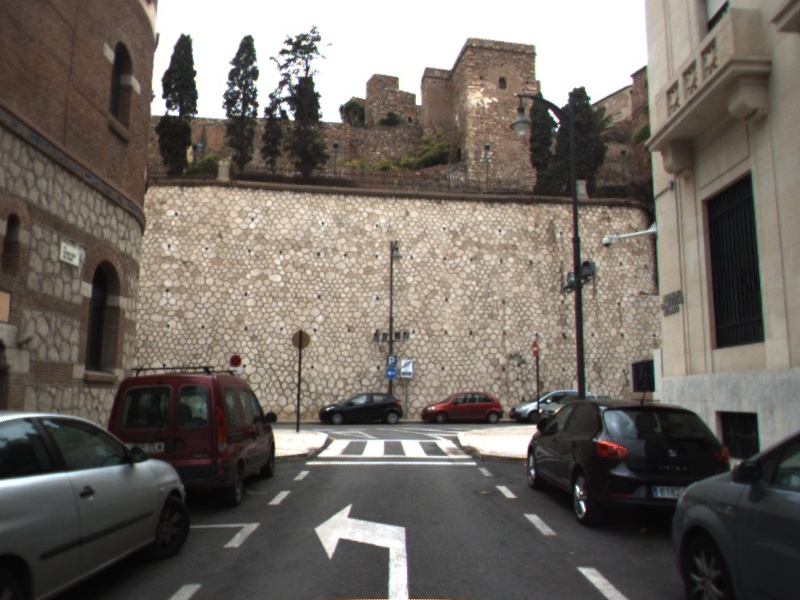LEFT: (312, 499, 410, 600)
